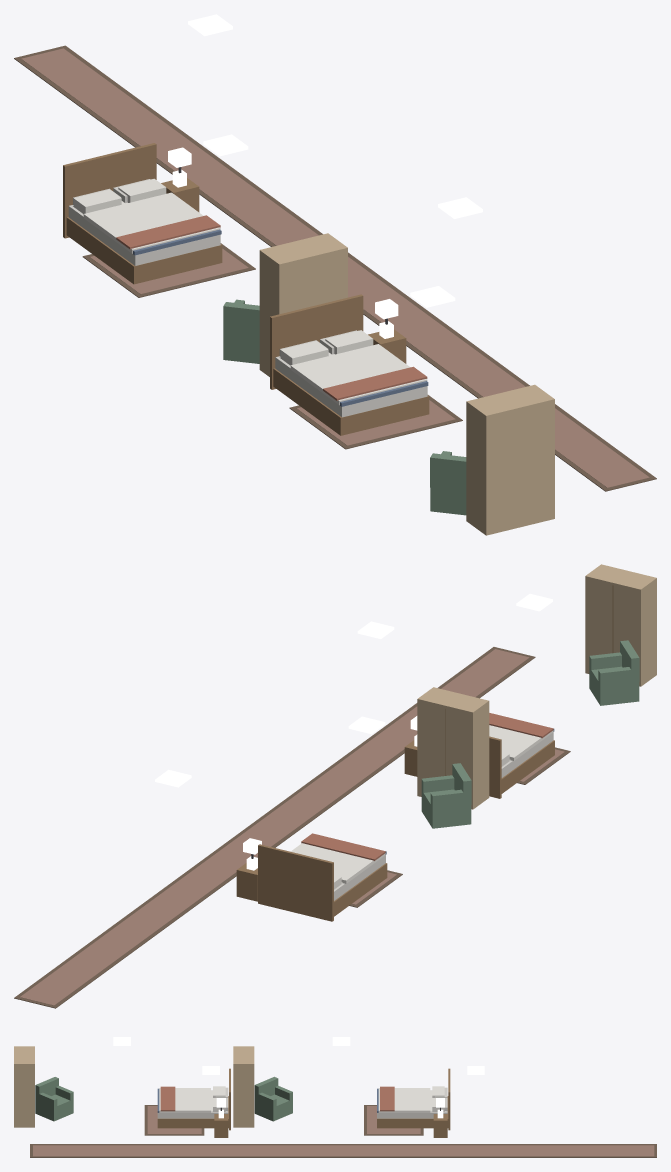
Rendered from fine-s2.glb.
The picture shows the model from 3 angles, top to bottom: view 1: azimuth 30°, elevation 25°; view 2: azimuth 150°, elevation 25°; view 3: azimuth 270°, elevation 25°; orthographic projection. The views are drawn at different scales.
Visible parts, largest first — view 1: soft-s2, dresser.003, bed-frame.002, bed-frame.003, dresser.002, lounge-chair.003, lounge-chair.002, nightstand.003, nightstand.002; view 2: soft-s2, dresser.002, dresser.003, bed-frame.002, lounge-chair.002, lounge-chair.003, bed-frame.003, nightstand.002; view 3: soft-s2, dresser.002, dresser.003, lounge-chair.002, lounge-chair.003, bed-frame.002, bed-frame.003, nightstand.002, nightstand.003.
Part boxes in pixels (<box>): soft-s2: <box>14,45,656,491</box>; dresser.003: <box>466,384,554,535</box>; bed-frame.002: <box>63,143,222,284</box>; bed-frame.003: <box>270,294,429,435</box>; dresser.002: <box>259,233,347,376</box>; lounge-chair.003: <box>430,451,466,515</box>; lounge-chair.002: <box>223,299,259,363</box>; nightstand.003: <box>368,321,406,363</box>; nightstand.002: <box>161,169,199,212</box>; soft-s2: <box>14,647,570,1008</box>; dresser.002: <box>417,687,489,809</box>; dresser.003: <box>585,564,656,686</box>; bed-frame.002: <box>258,844,387,921</box>; lounge-chair.002: <box>421,763,471,828</box>; lounge-chair.003: <box>589,640,639,705</box>; bed-frame.003: <box>489,729,554,798</box>; nightstand.002: <box>236,856,257,901</box>; soft-s2: <box>30,1086,656,1157</box>; dresser.002: <box>233,1046,254,1127</box>; dresser.003: <box>14,1046,34,1127</box>; lounge-chair.002: <box>254,1076,292,1121</box>; lounge-chair.003: <box>35,1077,73,1121</box>; bed-frame.002: <box>377,1068,450,1130</box>; bed-frame.003: <box>157,1068,230,1130</box>; nightstand.002: <box>433,1109,447,1137</box>; nightstand.003: <box>214,1109,228,1137</box>.
Size of the model in its own units: 3.55 by 2.57 by 18.36.
